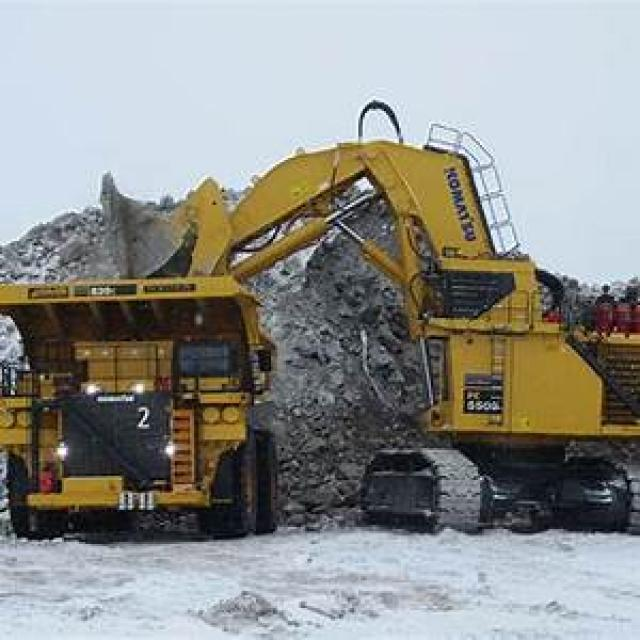dump_truck: (0, 272, 309, 550)
